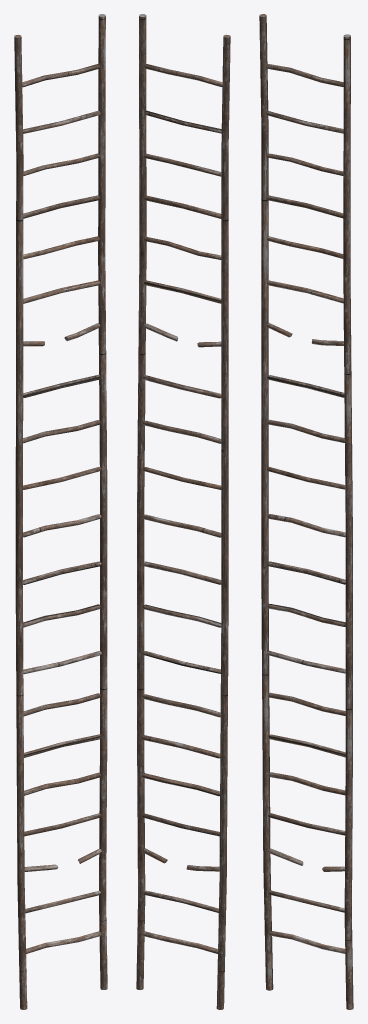
Rendered from Ladder.fbx.
3 views of the same model, side by side, from view 1: azimuth 30°, elevation 25°; view 2: azimuth 150°, elevation 25°; view 3: azimuth 330°, elevation 25° (orthographic).
Parts seen in each view (by area): view 1: SM_Ladder_01; view 2: SM_Ladder_01; view 3: SM_Ladder_01.
Boxes of the visible parts, bbox=[...] form: SM_Ladder_01: bbox=[14, 14, 107, 1009]; SM_Ladder_01: bbox=[136, 14, 230, 1009]; SM_Ladder_01: bbox=[259, 14, 353, 1009].
Size of the model in its own units: 85.45 by 854 by 6.77.
1 material, 1 textured.
